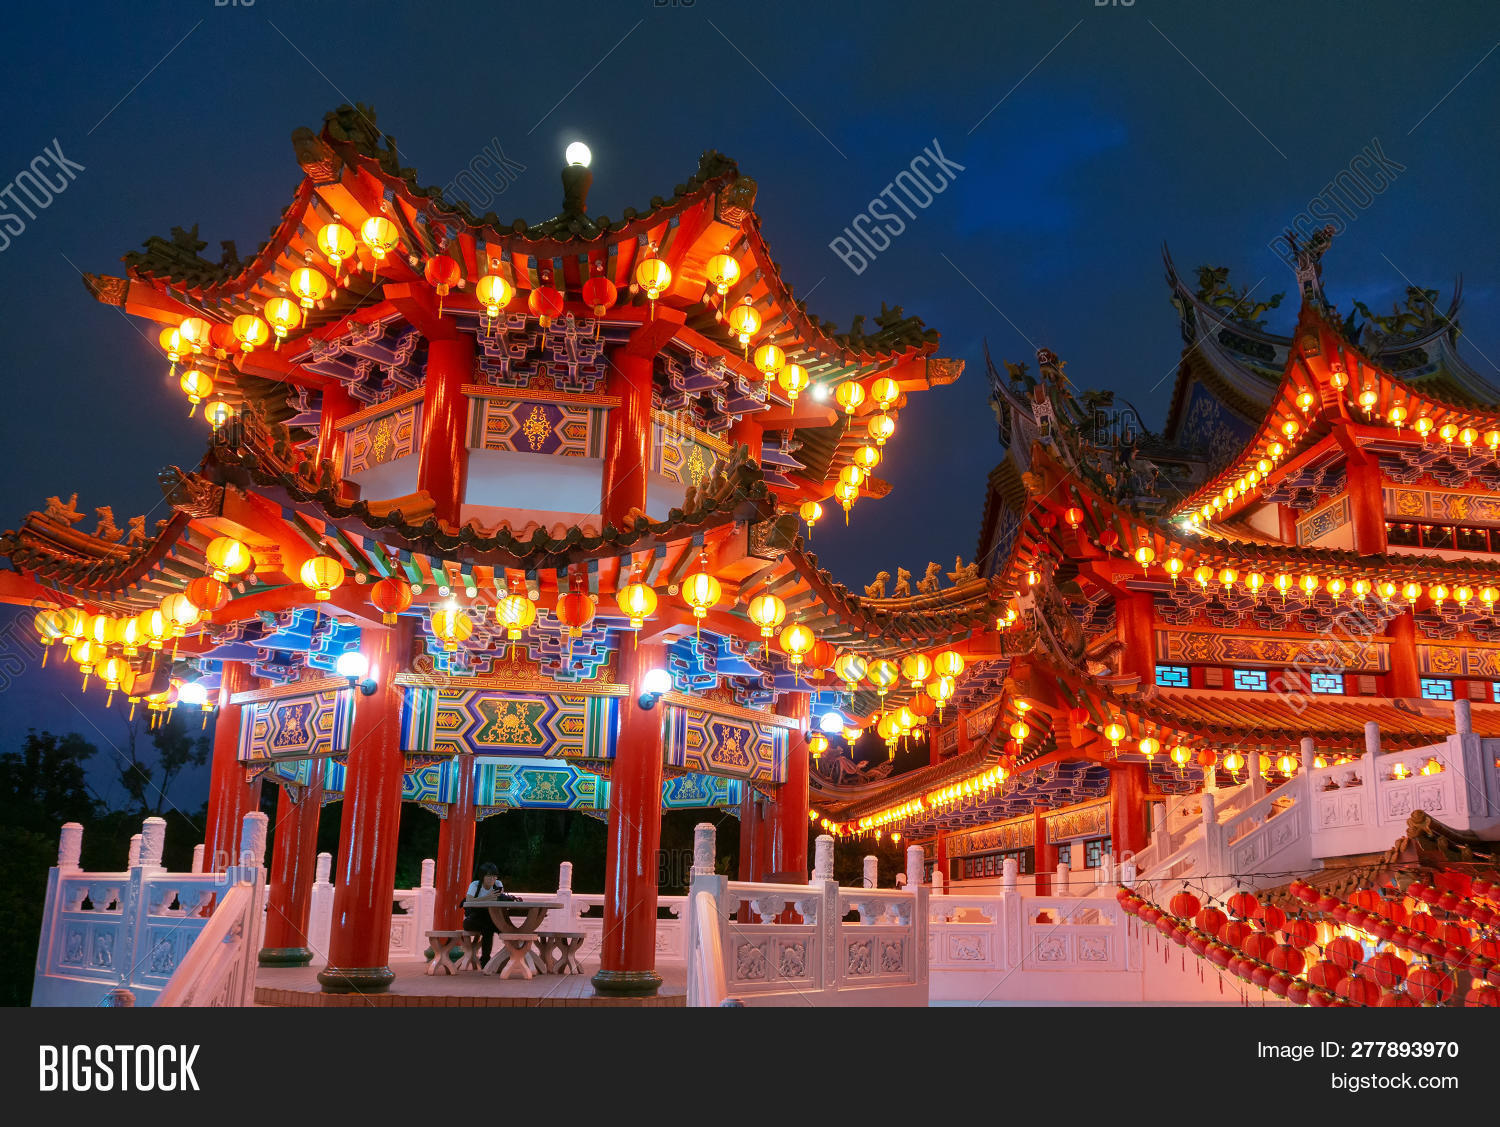Buddhist Temple: (21, 92, 1500, 972)
